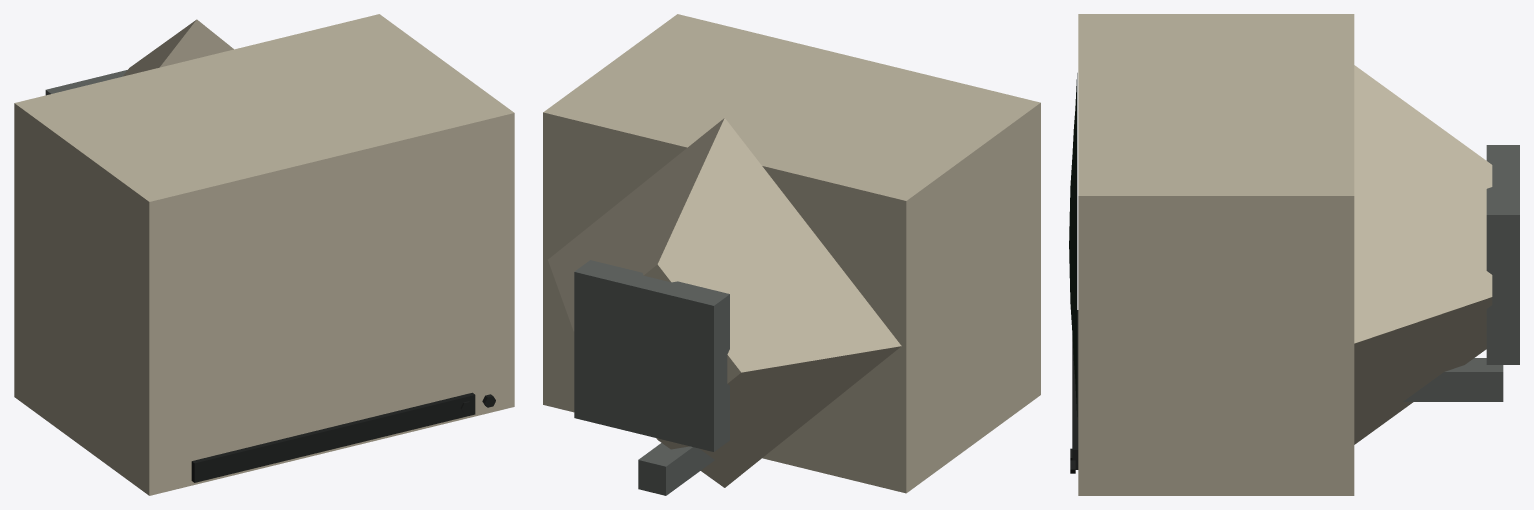
Rendered from mode_screen.glb.
The picture shows the model from 3 angles, left to right: view 1: azimuth 30°, elevation 25°; view 2: azimuth 150°, elevation 25°; view 3: azimuth 270°, elevation 25°; orthographic projection. The views are drawn at different scales.
Parts seen in each view (by area): view 1: mode_screen; view 2: mode_screen; view 3: mode_screen, screen.001.
Boxes of the visible parts, x1,y1,x2,y2 form: mode_screen: [14, 14, 514, 495]; mode_screen: [543, 14, 1040, 495]; mode_screen: [1070, 14, 1519, 495]; screen.001: [1069, 73, 1077, 416].
Size of the model in its own units: 0.78 by 0.76 by 0.817.
